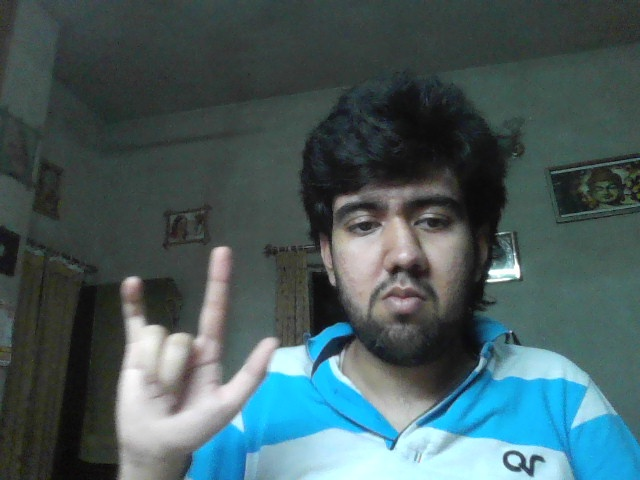ILoveYou: (113, 246, 283, 455)
